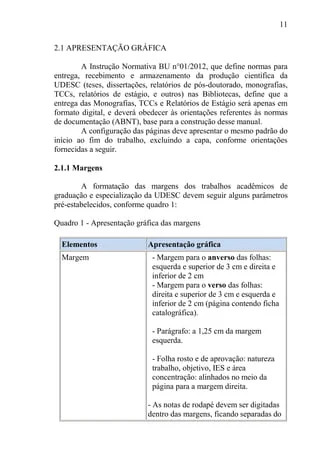Texto: (48, 40, 289, 425)
